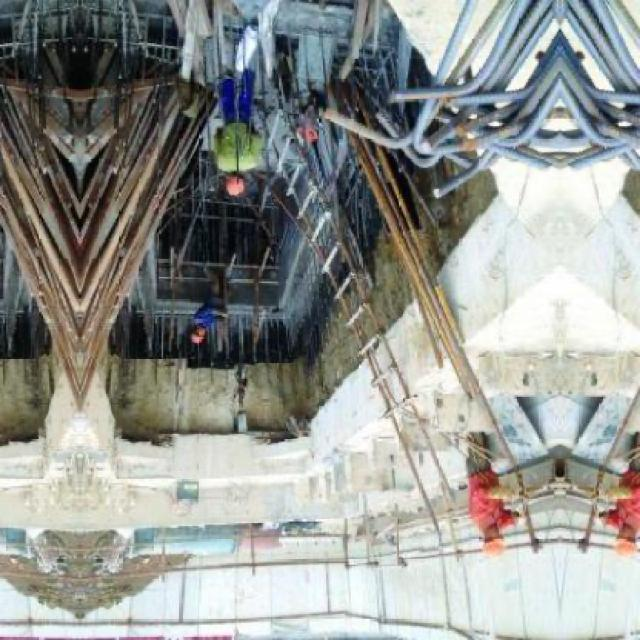con casco: (454, 512, 530, 559), (209, 153, 255, 207)
